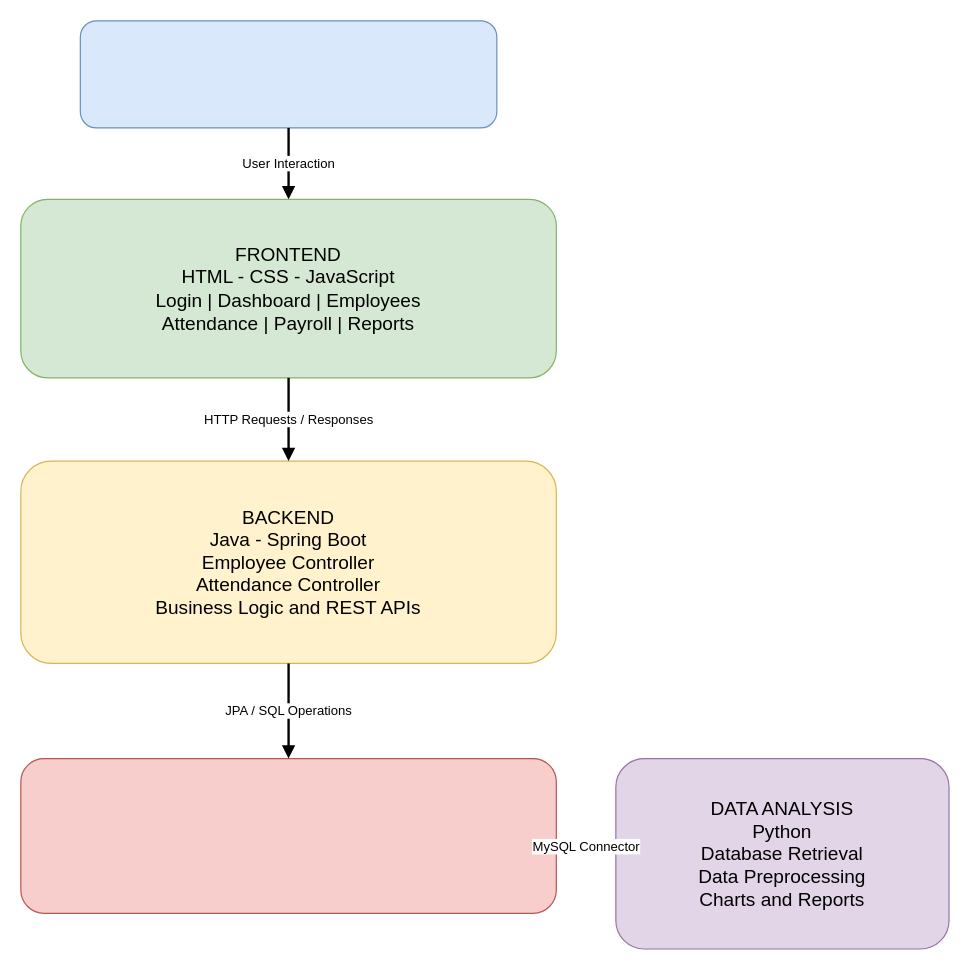
Image size: 970x970. Some labels were removed from this diagram. The centre of each missing label's shape, as x and y in pixels:
"ADMIN / USER Login and Manage System" belongs at point 288,74.
"DATABASE MySQL Employee Table Attendance Records Table" belongs at point 288,835.
